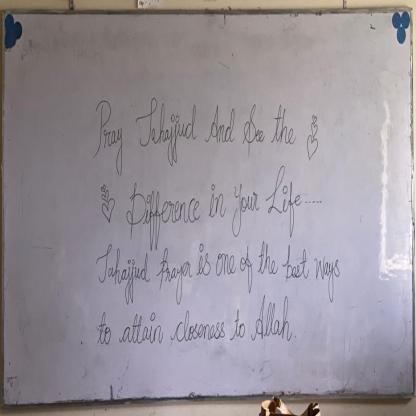Handwritten text: (94, 233, 343, 299), (86, 94, 299, 166), (125, 165, 305, 240), (77, 296, 300, 350)
Whiteboard: (0, 8, 416, 398)
